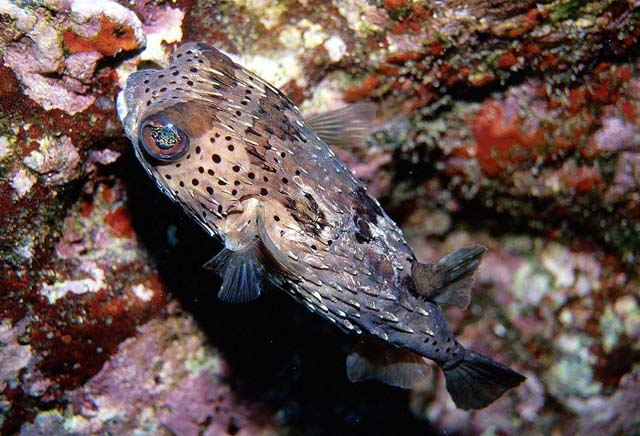Diodon_holocanthus: (102, 40, 554, 413)
